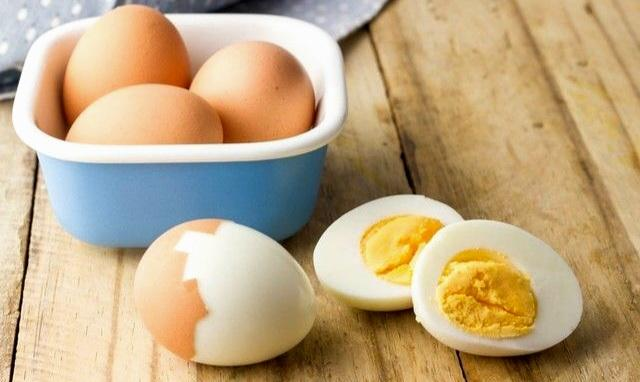telur: (161, 260, 296, 350), (433, 242, 548, 343), (328, 220, 411, 298), (232, 51, 292, 124), (100, 17, 155, 81), (105, 99, 192, 137)
